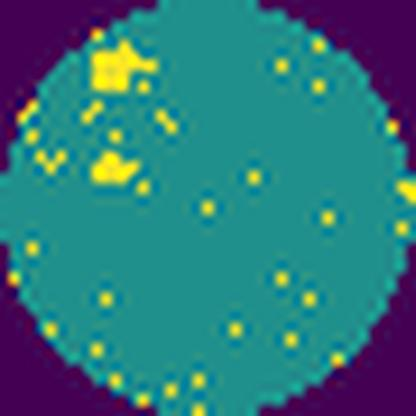Loc: (88, 35, 160, 91), (89, 150, 142, 182)
